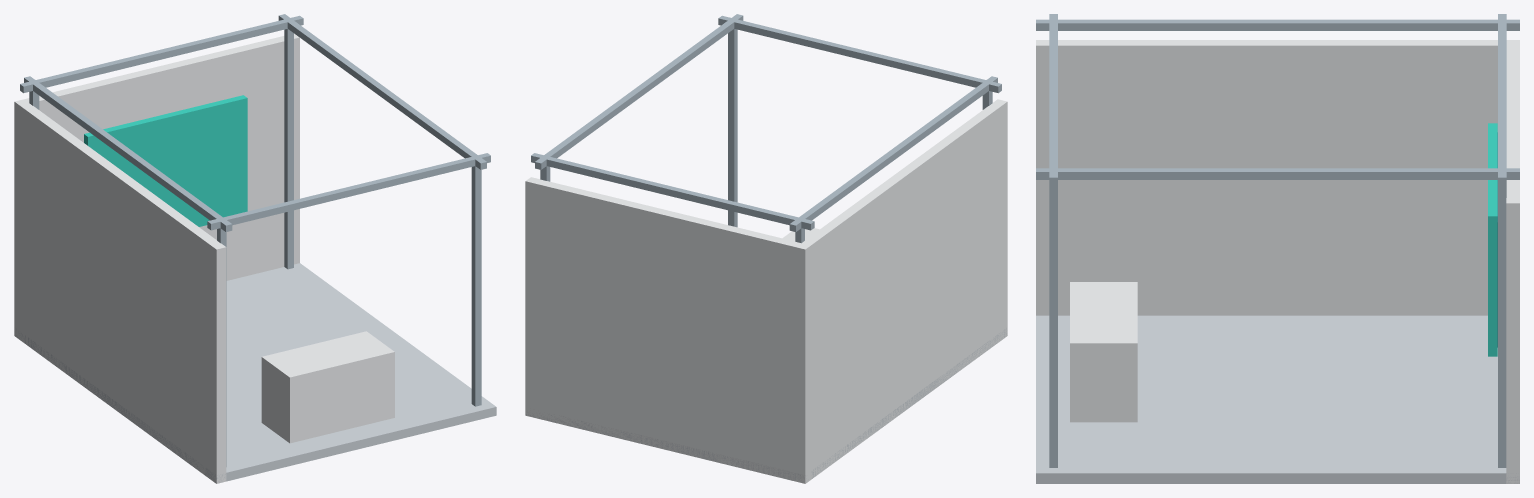
The picture shows the model from 3 angles, left to right: view 1: azimuth 30°, elevation 25°; view 2: azimuth 150°, elevation 25°; view 3: azimuth 270°, elevation 25°; orthographic projection. The views are drawn at different scales.
Parts seen in each view (by area): view 1: Exhibition Booth Concept; view 2: Exhibition Booth Concept; view 3: Exhibition Booth Concept.
Part boxes in pixels (box(x1,y1,x2,y2)): Exhibition Booth Concept: box(14, 14, 496, 483); Exhibition Booth Concept: box(525, 14, 1007, 483); Exhibition Booth Concept: box(1036, 14, 1519, 483).
Bounding box in the file's own units: 4 × 3.49 × 5.
